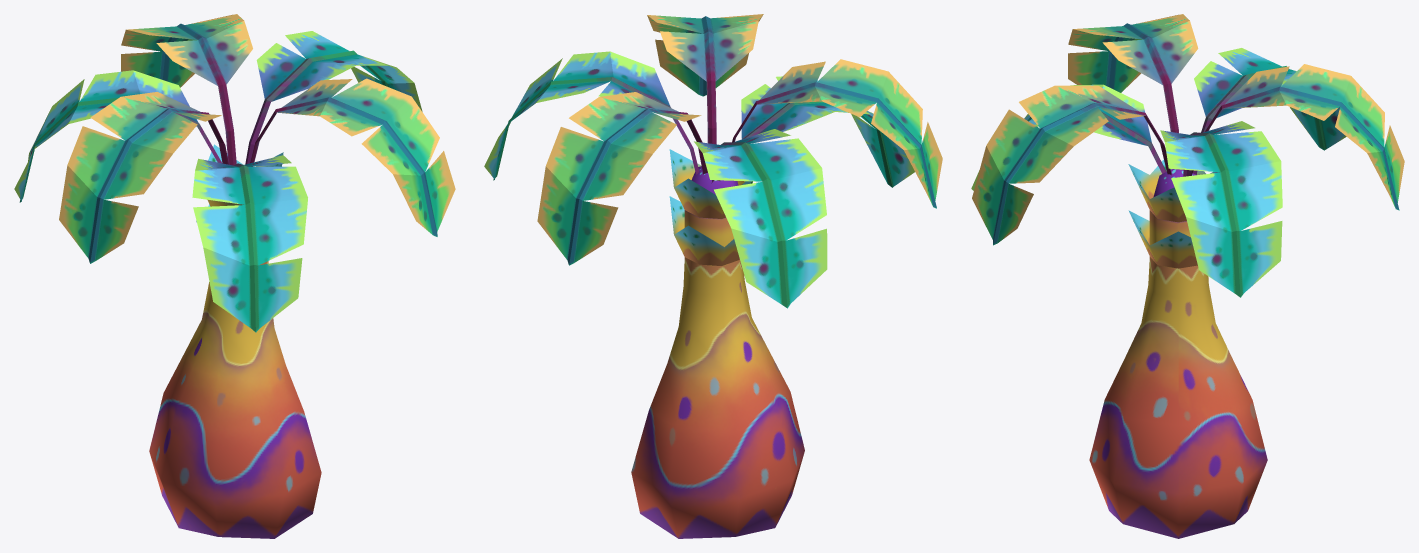
File: Palmtree1.fbx
3 renders of one model, left to right at view 1: azimuth 30°, elevation 25°; view 2: azimuth 150°, elevation 25°; view 3: azimuth 270°, elevation 25°, orthographic.
Visible parts, largest first — view 1: PalmTree1; view 2: PalmTree1; view 3: PalmTree1.
Part boxes in pixels (<box>): PalmTree1: <box>14,14,455,538</box>; PalmTree1: <box>484,14,942,538</box>; PalmTree1: <box>971,14,1404,538</box>.
Bounding box in the file's own units: 181 × 202 × 175.
